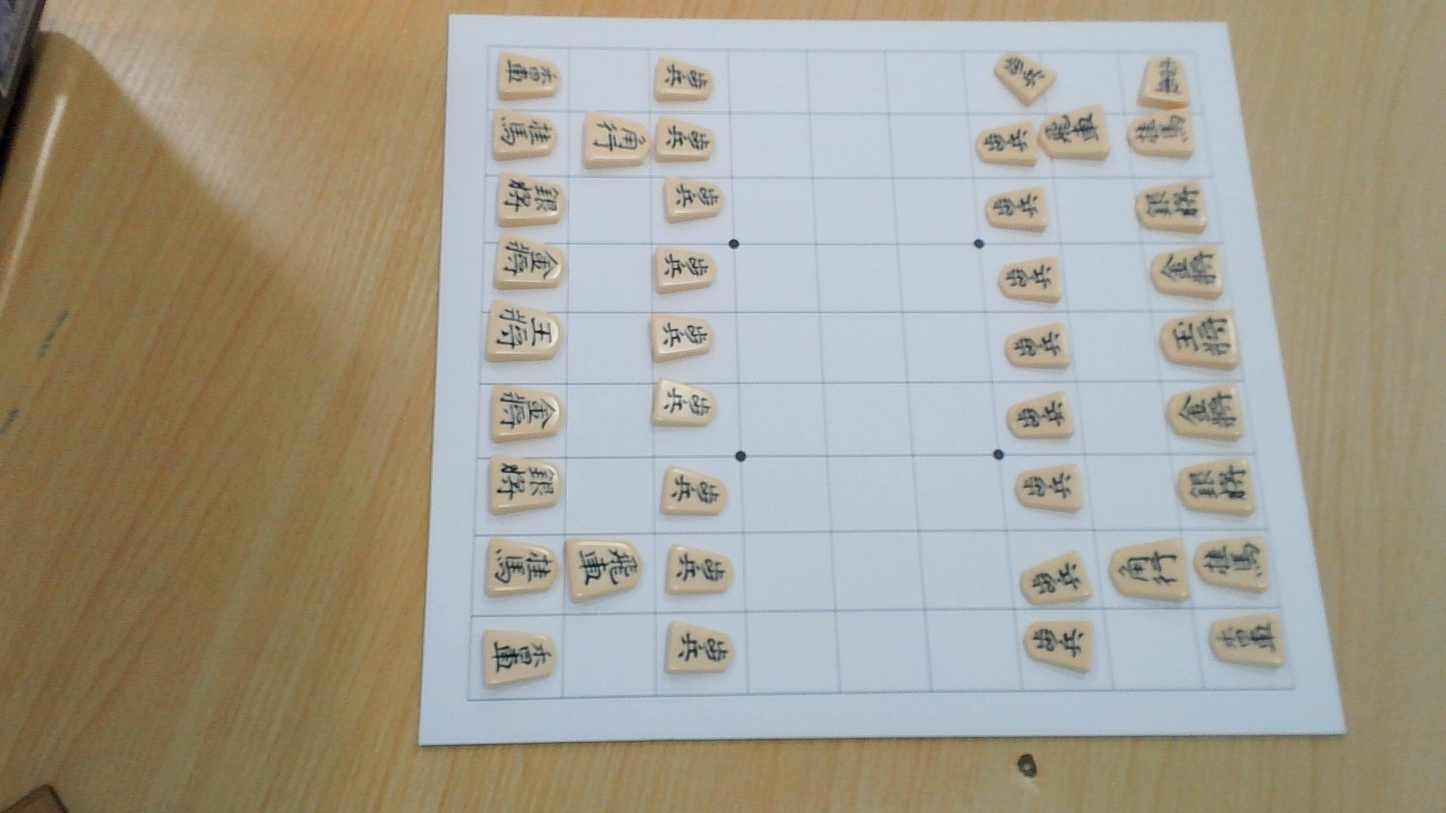board: (466, 46, 1295, 701)
